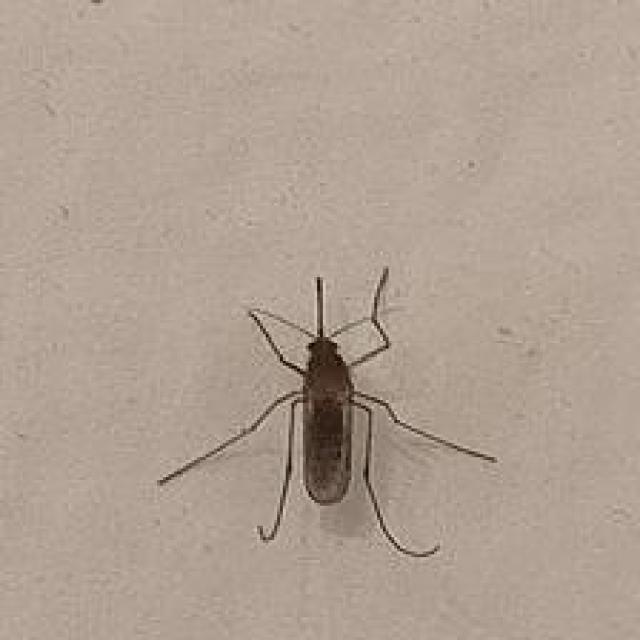Culex: (156, 264, 498, 559)
